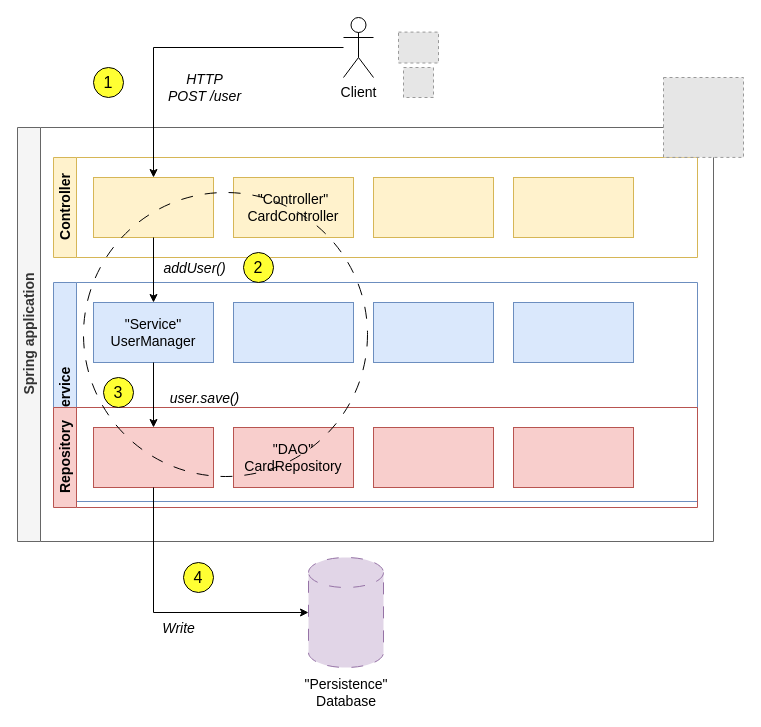
The diagram is 761 pixels wide and 727 high, and some of its shapes have lost their labels. Grey dashed boxes stand in for pictures. The shapes that lost their labels are listed below. From the top down, each one's centre as x and y in pixels, then its label:
pixel 153 207: "Controller" UserController
pixel 293 332: "Service" CardManager
pixel 153 457: "DAO" UserRepository
